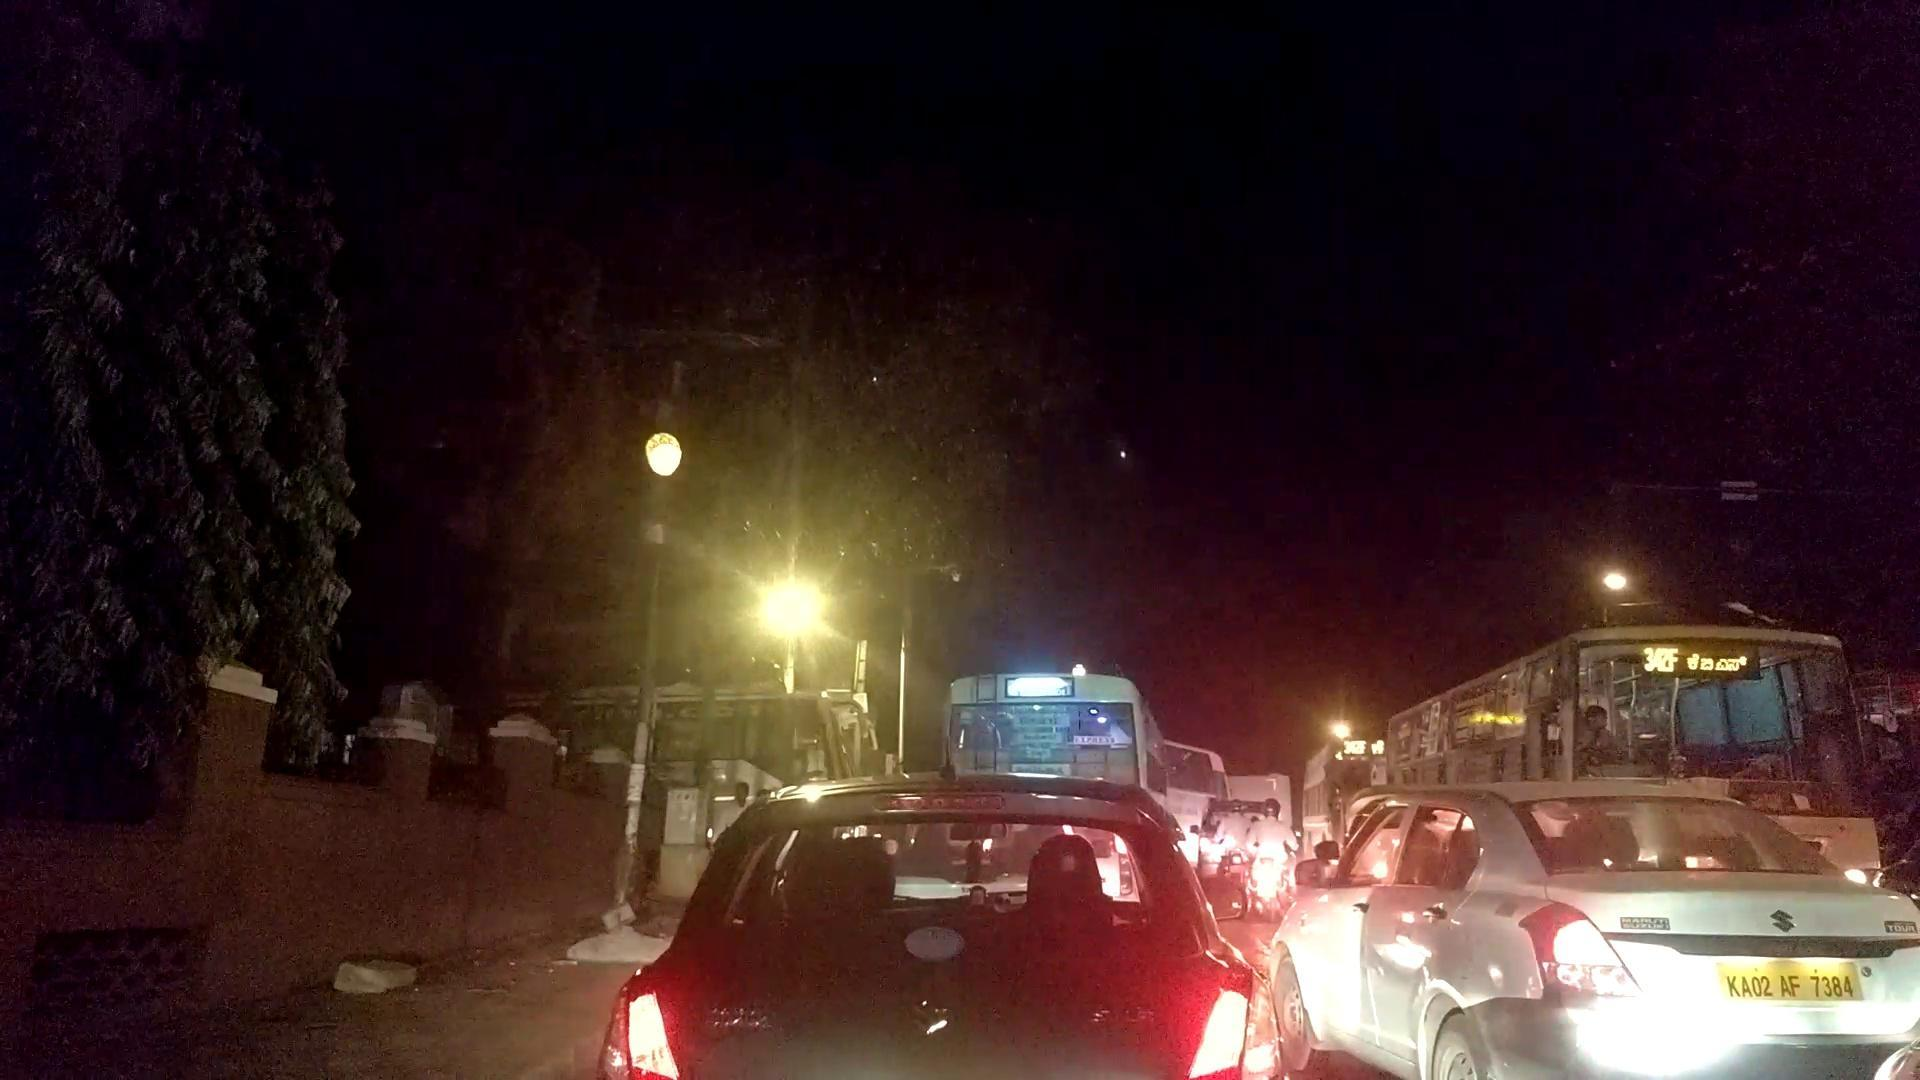on: (541, 502, 990, 738)
